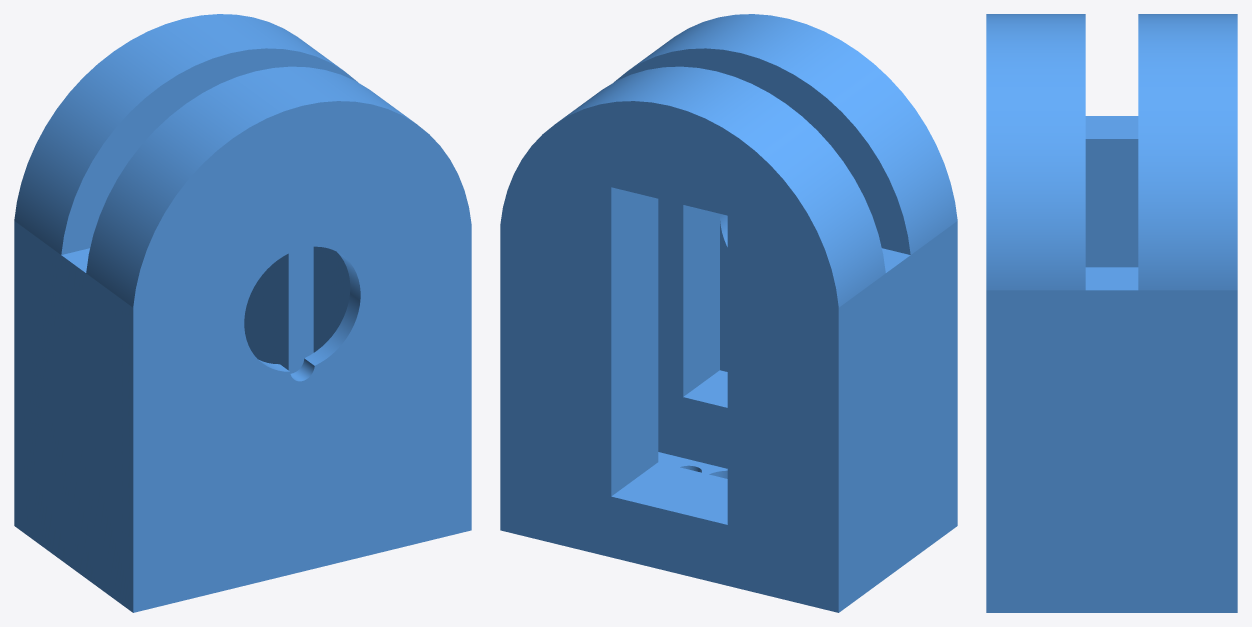
File: Hand.glb
3 renders of one model, left to right at view 1: azimuth 30°, elevation 25°; view 2: azimuth 150°, elevation 25°; view 3: azimuth 270°, elevation 25°, orthographic. The views are drawn at different scales.
Parts seen in each view (by area): view 1: Arm 03; view 2: Arm 03; view 3: Arm 03.
Boxes of the visible parts, left/top/right/bottom form: Arm 03: left=14, top=14, right=471, bottom=612; Arm 03: left=500, top=14, right=957, bottom=612; Arm 03: left=986, top=14, right=1237, bottom=612.
Bounding box in the file's own units: 0.0378 × 0.0497 × 0.023.
